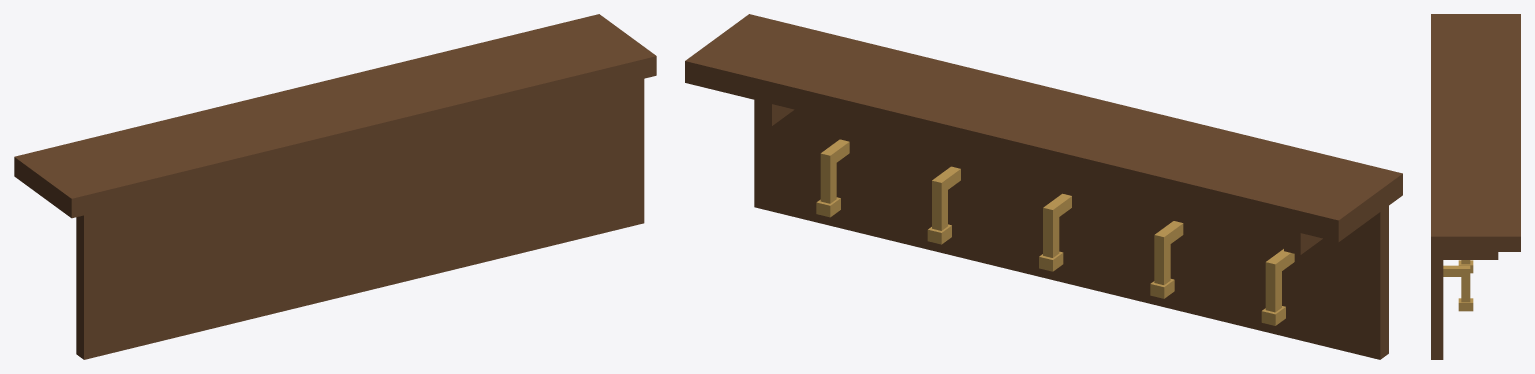
The model's file is FN_Rail_Hooks.glb.
The picture shows the model from 3 angles, left to right: view 1: azimuth 30°, elevation 25°; view 2: azimuth 150°, elevation 25°; view 3: azimuth 270°, elevation 25°; orthographic projection. The views are drawn at different scales.
Visible parts, largest first — view 1: FN_Rail_Hooks; view 2: FN_Rail_Hooks; view 3: FN_Rail_Hooks.
Part boxes in pixels (x1,y1,x2,y2): FN_Rail_Hooks: (14, 14, 656, 359); FN_Rail_Hooks: (685, 14, 1402, 359); FN_Rail_Hooks: (1431, 14, 1520, 359).
Size of the model in its own units: 0.94 by 0.252 by 0.16.
Materials: 1 (1 with a texture image).
